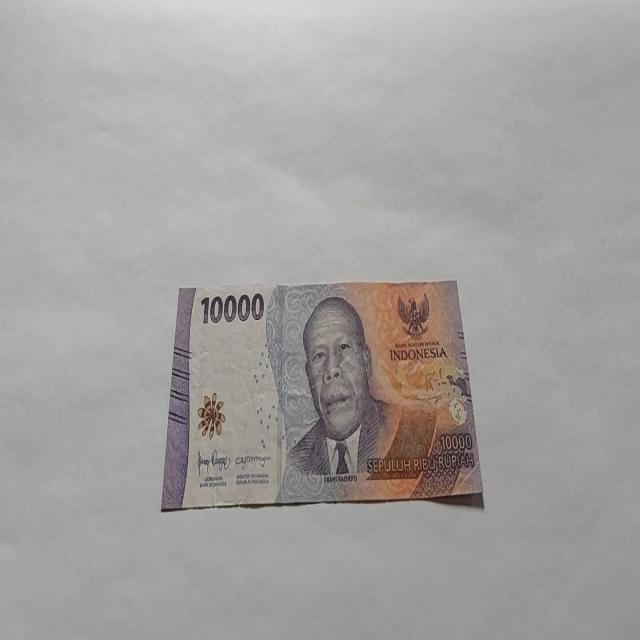sepuluh ribu rupiah: (160, 278, 484, 512)
